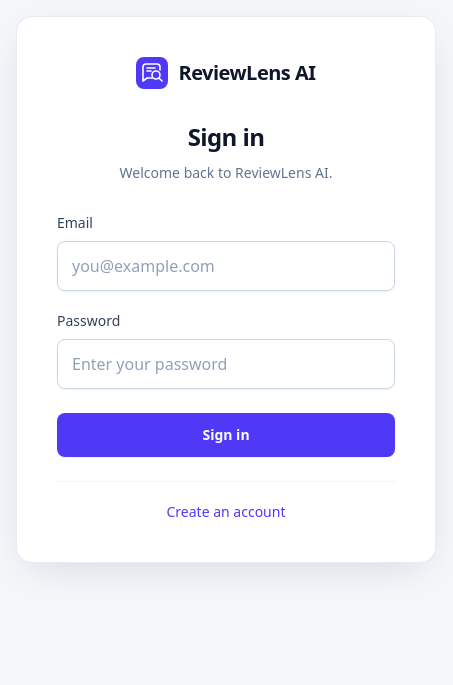
Test: failed login stays signed out and displays an error
The width and height of the screenshot is (453, 685).
Type "user@example.com" into the field labelled "Email" at (226, 266), box 57,241 -> 395,291
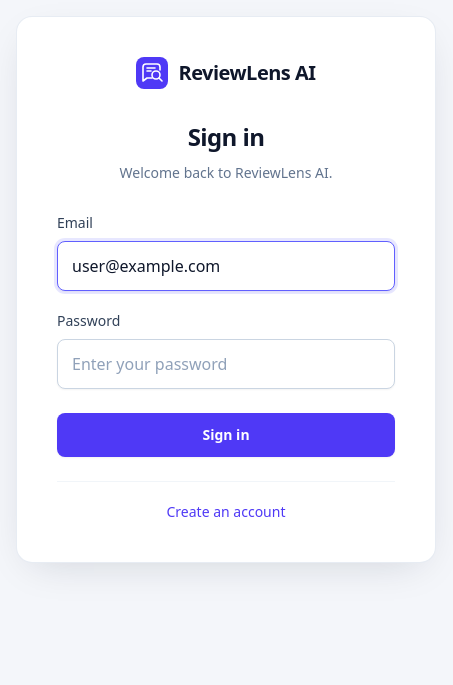
Type "wrong" into the password field labelled "Password" at (226, 364), box 57,339 -> 395,389
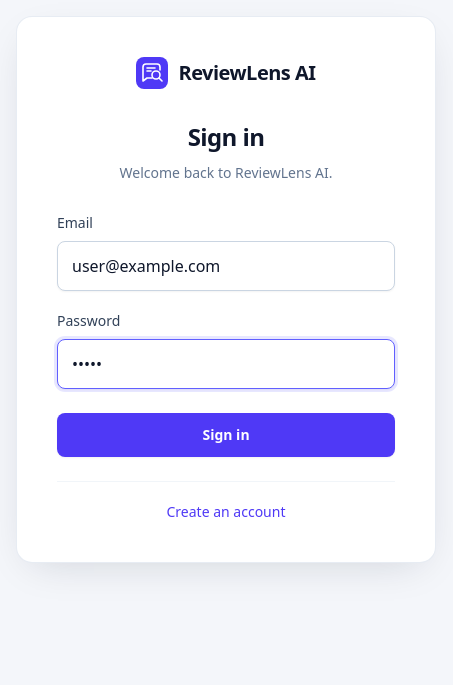
Click the button "Sign in" at (226, 435), box 57,413 -> 395,457
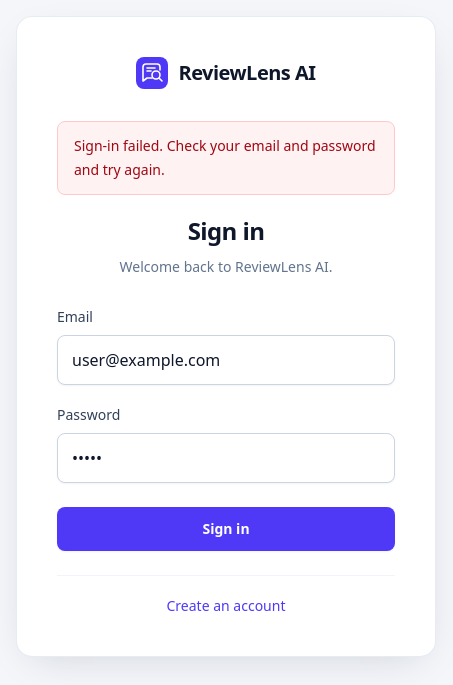
Expected: the message shows "Sign-in failed", 74,136 -> 376,179
